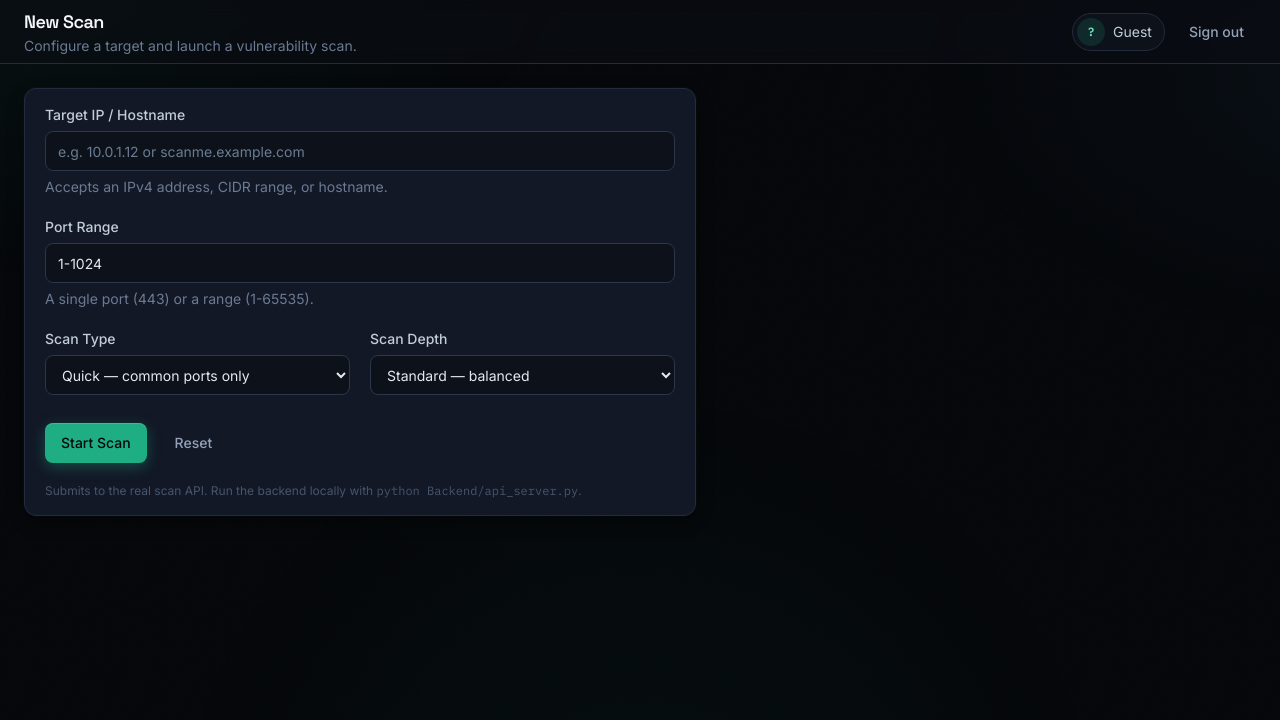
Test case: NewScan › shows a validation error when the target is empty
Click the button "Start Scan" at (96, 443), box [45,423,147,463]
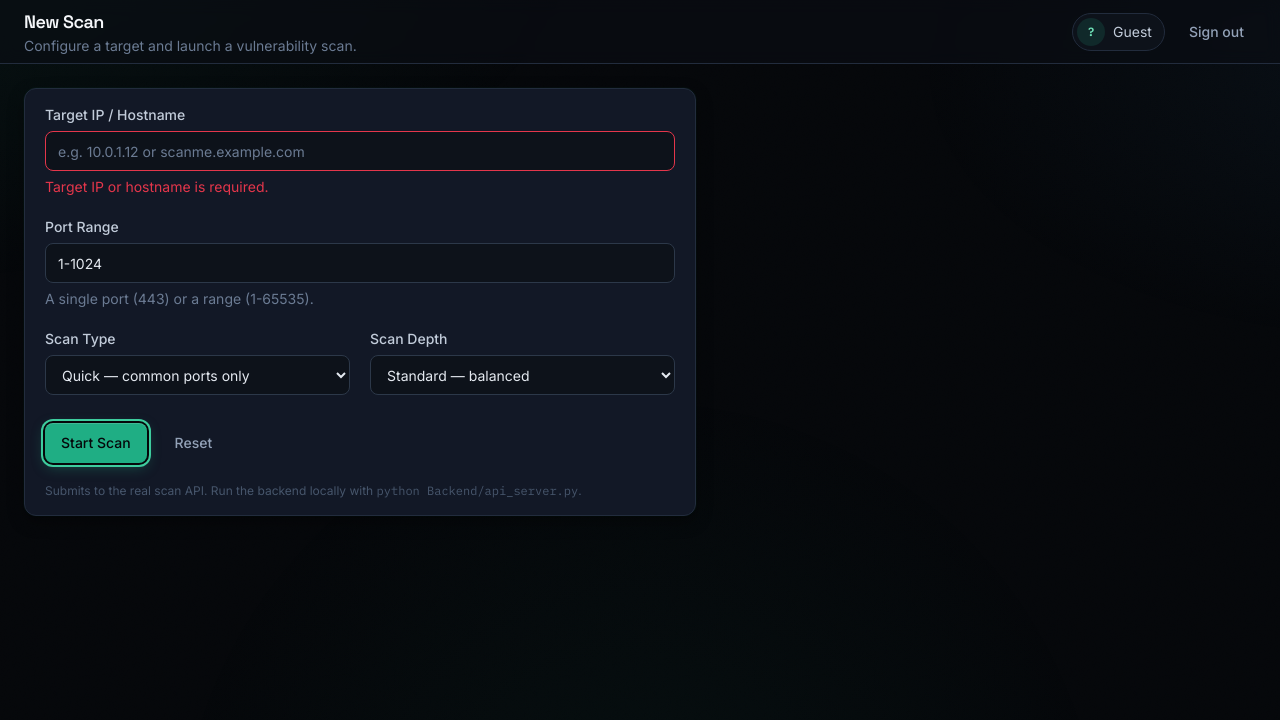
Result: the text "Target IP or hostname is required." is shown at [45,178,268,195]
